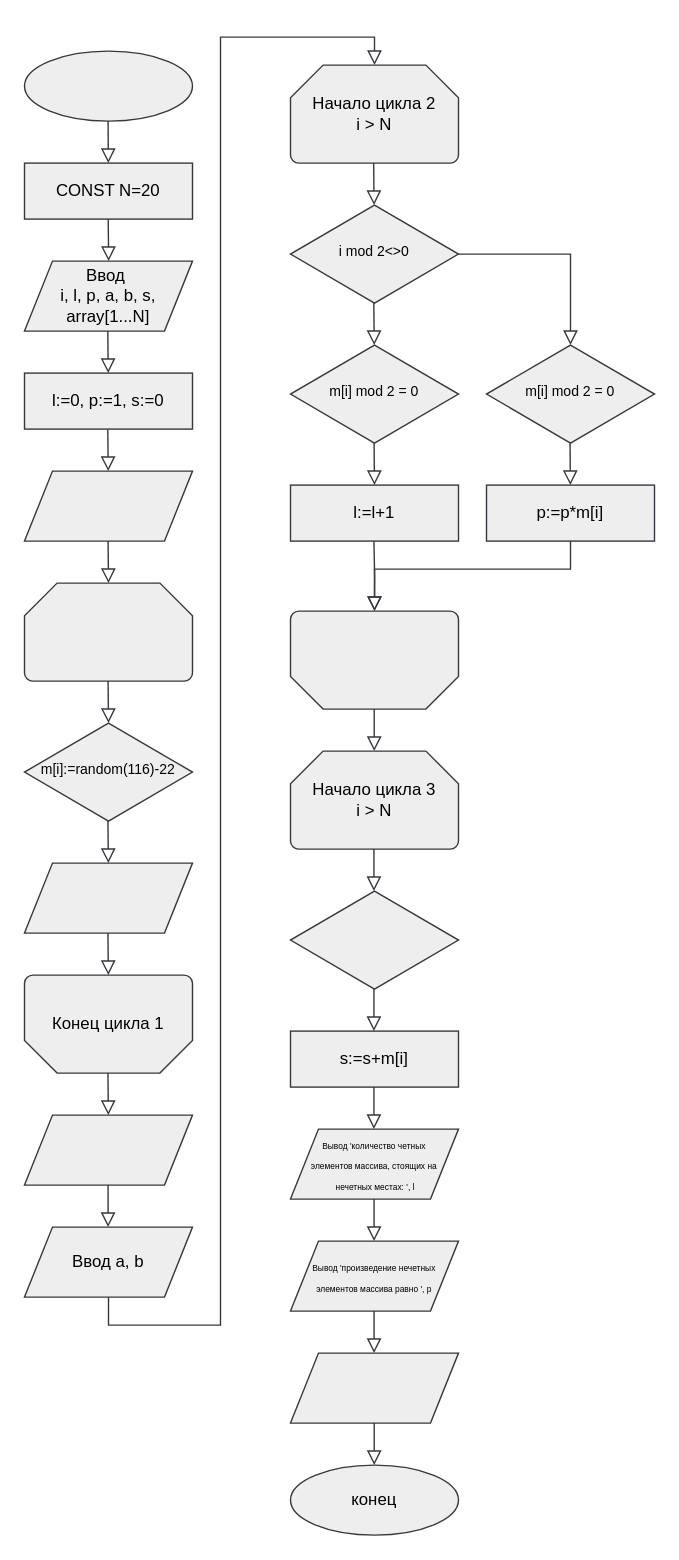
The diagram is 679 pixels wide and 1560 high, and some of its shapes have lost their labels. The shapes that lost their labels are listed below. From the top down, each one's box as (x1, y1, x2, y2) in pixels, then its label:
(23, 50, 192, 121): начало
(23, 470, 192, 541): Вывод 'исходный массив'
(23, 582, 192, 681): Начало цикла 1 i > N
(289, 610, 458, 709): Конец цикла 2
(23, 862, 192, 933): Вывод (m[i], ' ')
(289, 890, 458, 989): (m[i]>=a) (m[i]<=b)
(23, 1114, 192, 1185): Вывод 'введите промежуток'
(289, 1352, 458, 1423): Вывод 'сумма элементов, принадлежащих промежутку [', a, ',', b, '] равна ', s
